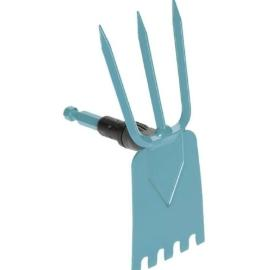HOUE: (61, 0, 221, 270)
